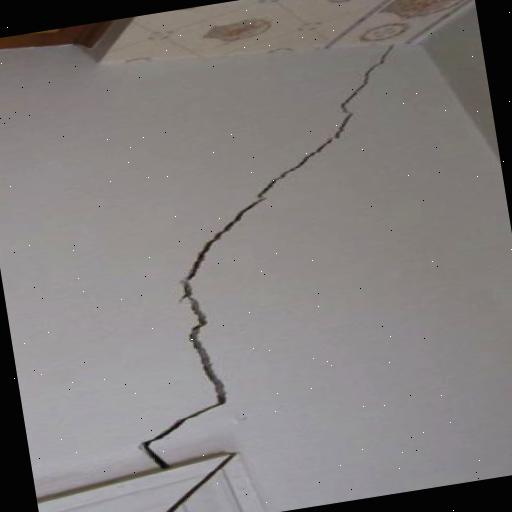spalling: (123, 46, 399, 468)
